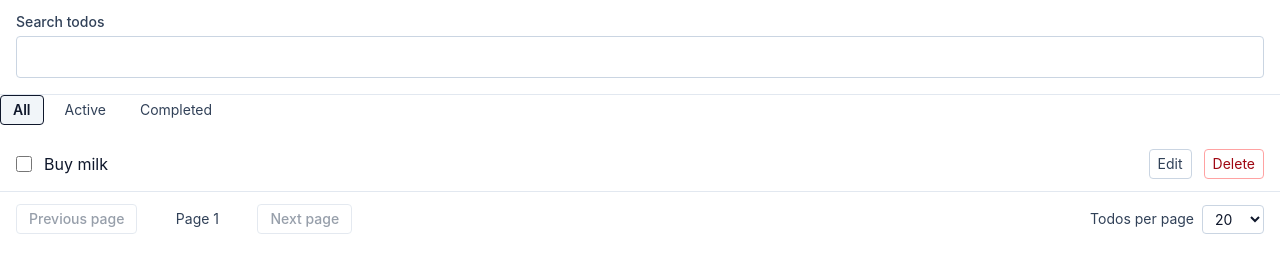
TodoFlows status filter › shows the safe error with Retry for a failed first load, keeps the new filter selected, and lets the user switch
The width and height of the screenshot is (1280, 255).
Click the link "Completed" at (176, 110), box x1=140 y1=101 x2=212 y2=118
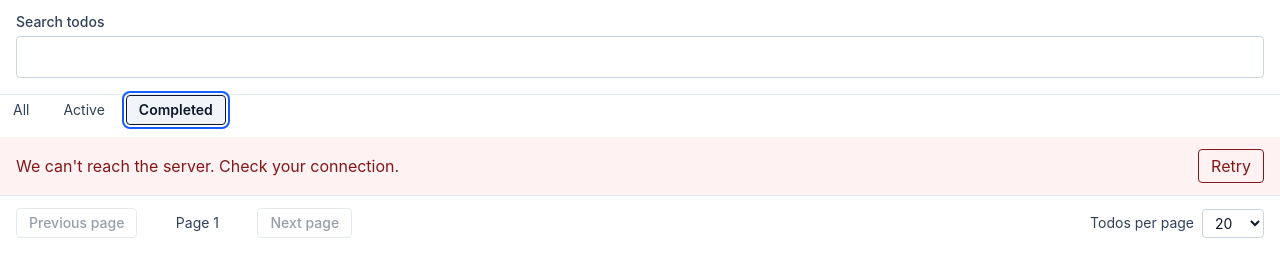
Check: the message "We can't reach the server. Check your connection. Retry" is shown, box x1=0 y1=137 x2=1279 y2=195
Check: the button "Retry" is shown, box x1=1198 y1=149 x2=1264 y2=183
Click the link "All" at (21, 110), box x1=13 y1=101 x2=30 y2=118
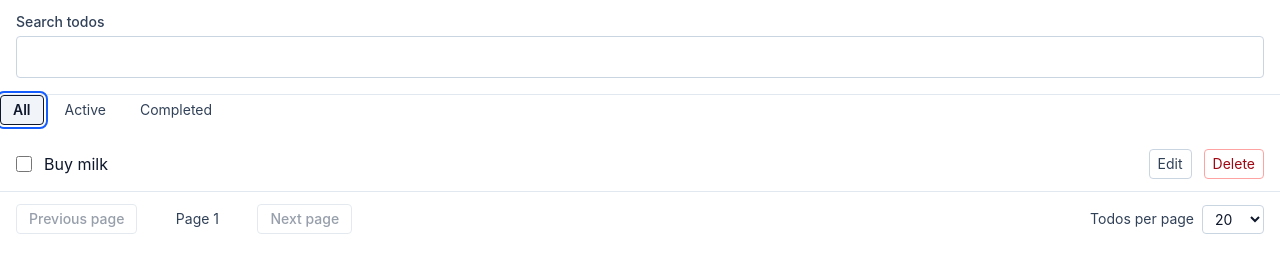
Check: the text "Buy milk" is shown, box x1=44 y1=154 x2=108 y2=174
Check: the message "We can't reach the server. Check your connection. Retry" is gone
